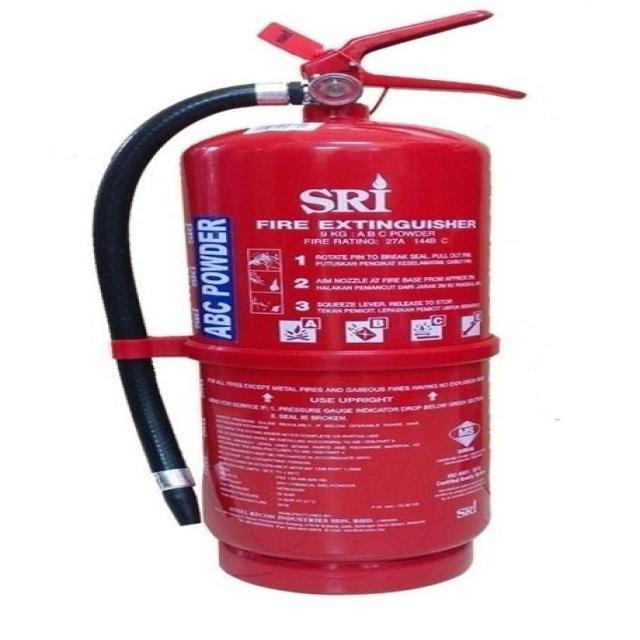fire_extinguisher: (79, 5, 534, 599)
